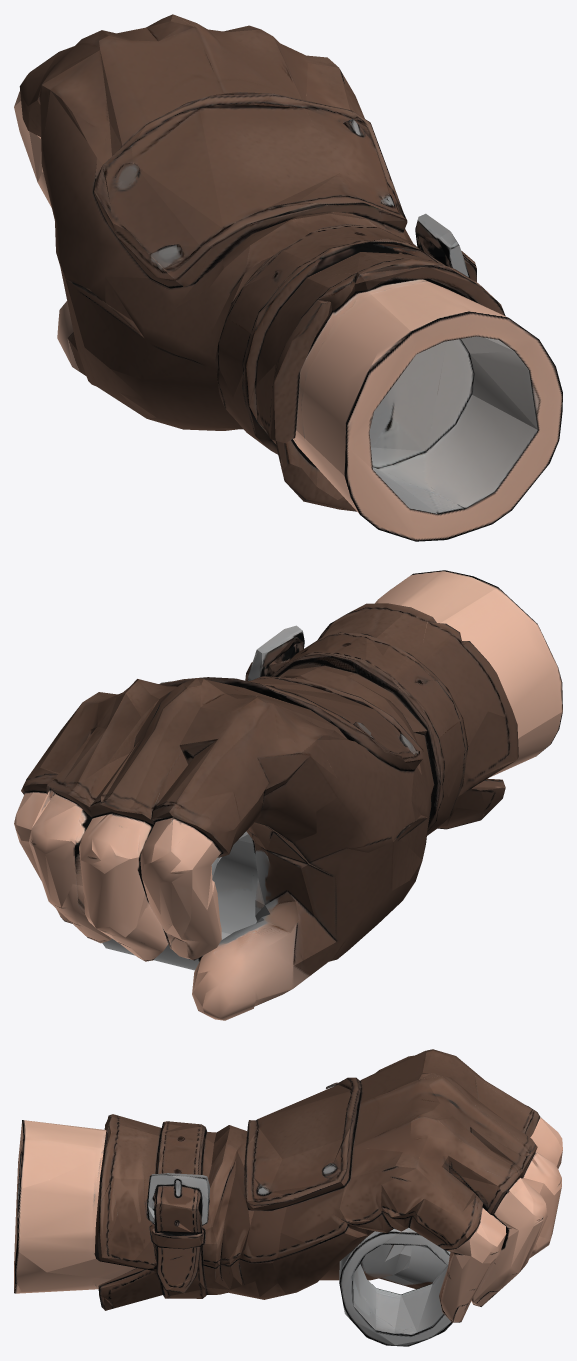
Rendered from Fist.fbx.
3 views of the same model, one above another, from view 1: azimuth 30°, elevation 25°; view 2: azimuth 150°, elevation 25°; view 3: azimuth 270°, elevation 25° (orthographic). The views are drawn at different scales.
Visible parts, largest first — view 1: Prop; view 2: Prop; view 3: Prop.
Boxes of the visible parts, x1,y1,x2,y2 form: Prop: (14, 14, 562, 541); Prop: (14, 570, 562, 1020); Prop: (14, 1049, 562, 1346).
Size of the model in its own units: 0.0663 by 0.0637 by 0.13.
